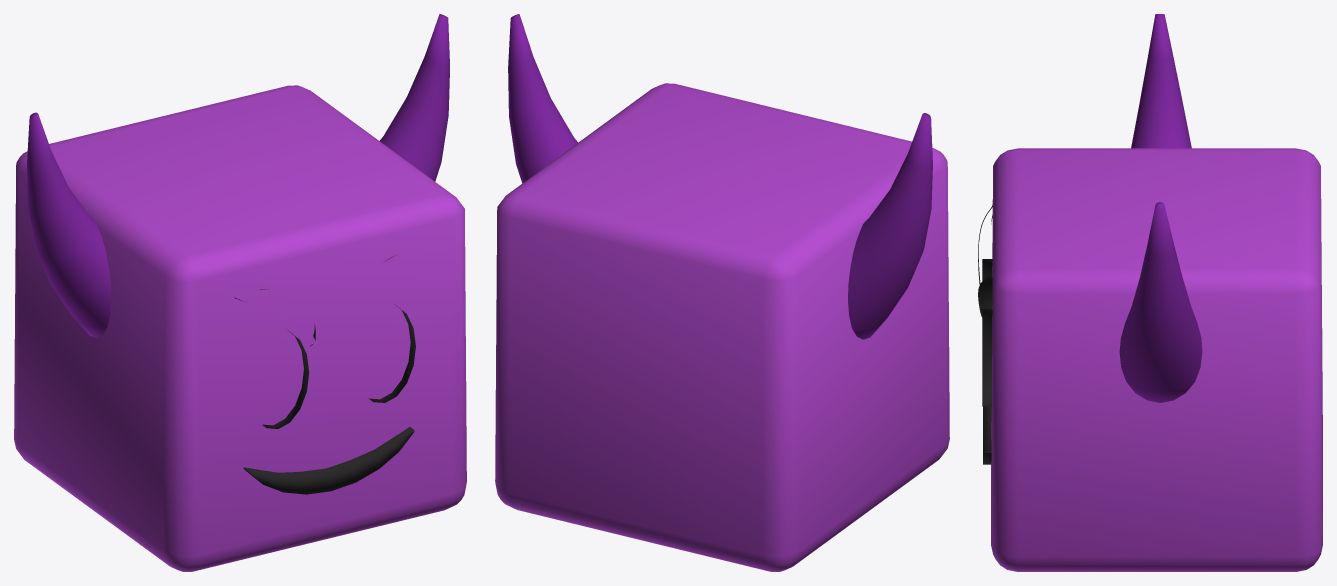
Rendered from Evil smile.fbx.
3 renders of one model, left to right at view 1: azimuth 30°, elevation 25°; view 2: azimuth 150°, elevation 25°; view 3: azimuth 270°, elevation 25°, orthographic. The views are drawn at different scales.
Visible parts, largest first — view 1: Evil smile; view 2: Evil smile; view 3: Evil smile.
Boxes of the visible parts, x1,y1,x2,y2 form: Evil smile: (14,14,466,571); Evil smile: (495,14,949,571); Evil smile: (978,14,1322,571).
Size of the model in its own units: 630 by 604 by 469.
